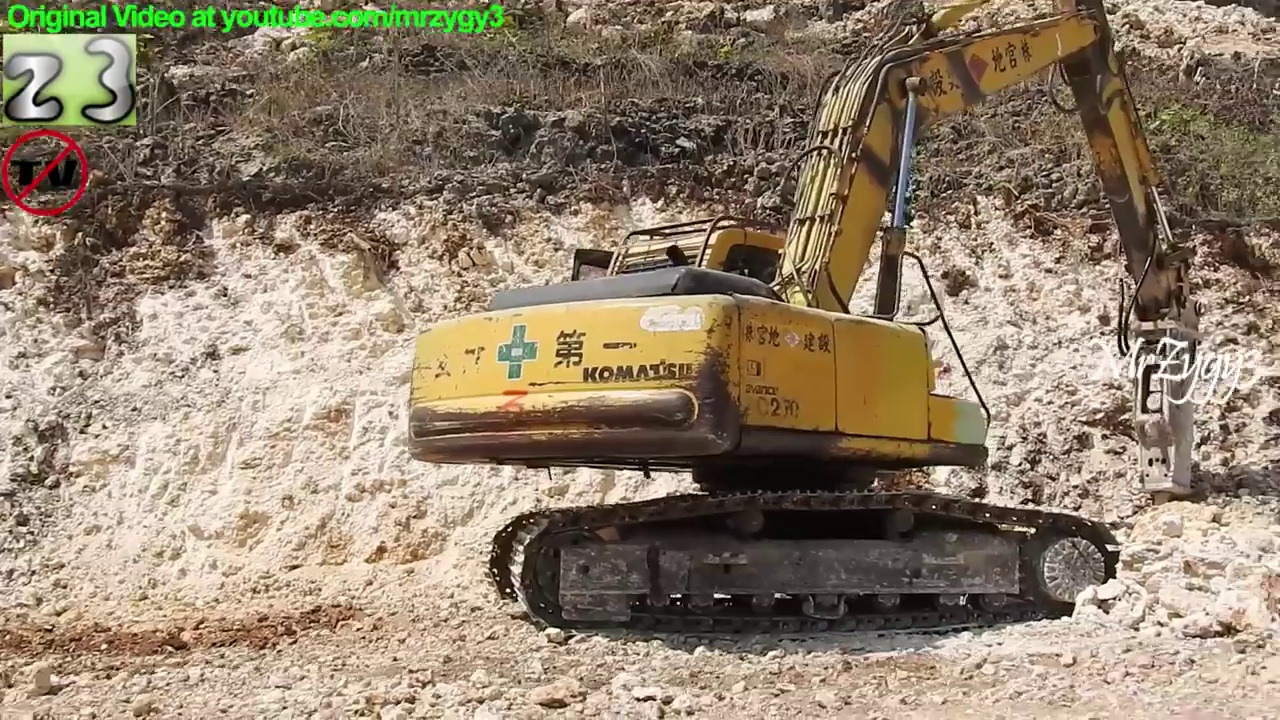excavator breaker: (398, 1, 1212, 657)
